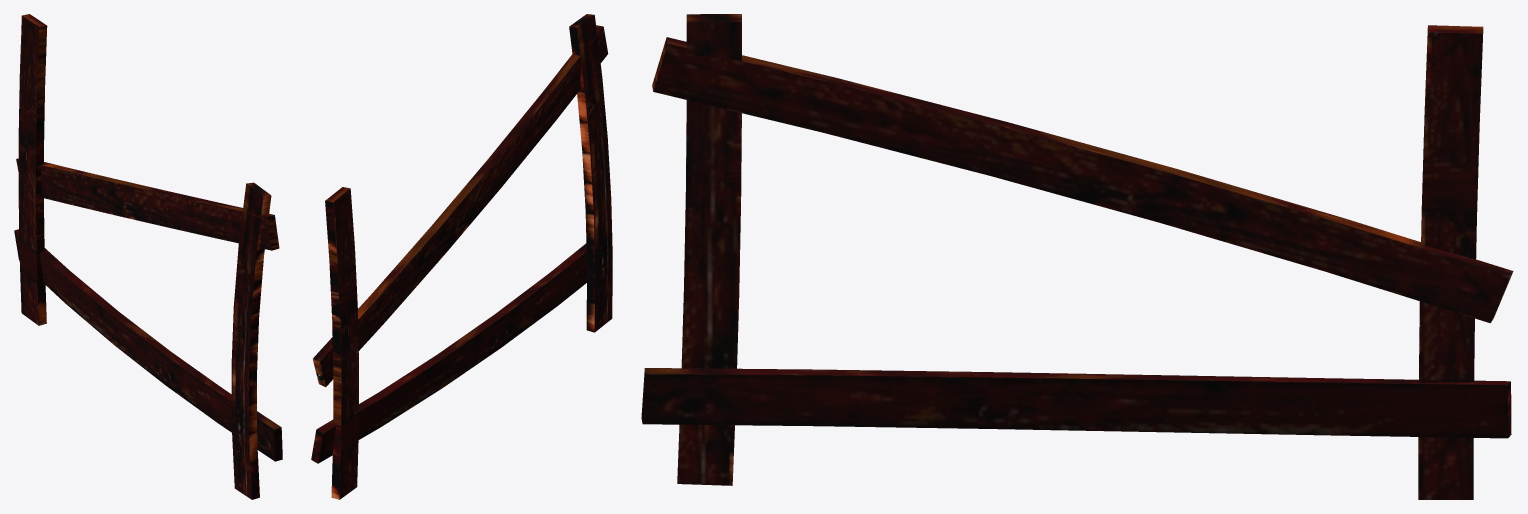
File: JumpFence.obj
3 views of the same model, side by side, from view 1: azimuth 30°, elevation 25°; view 2: azimuth 150°, elevation 25°; view 3: azimuth 270°, elevation 25° (orthographic). The views are drawn at different scales.
Visible parts, largest first — view 1: FenceOnRight; view 2: FenceOnRight; view 3: FenceOnRight.
Boxes of the visible parts, x1,y1,x2,y2 form: FenceOnRight: (14, 14, 282, 499); FenceOnRight: (311, 14, 612, 499); FenceOnRight: (641, 14, 1513, 499).
Bounding box in the file's own units: 0.7536 × 5.67 × 9.39.
